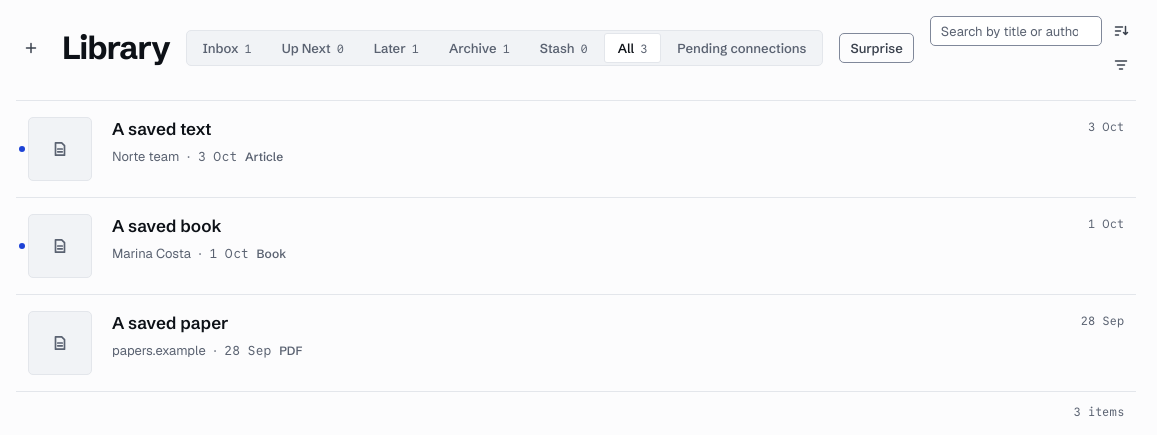
Test case: LibraryView over the API › asks the server for unread only, and says so on the page
Step 1. Click the button named "Filter" → (1121, 65), box [1106,50,1136,80]
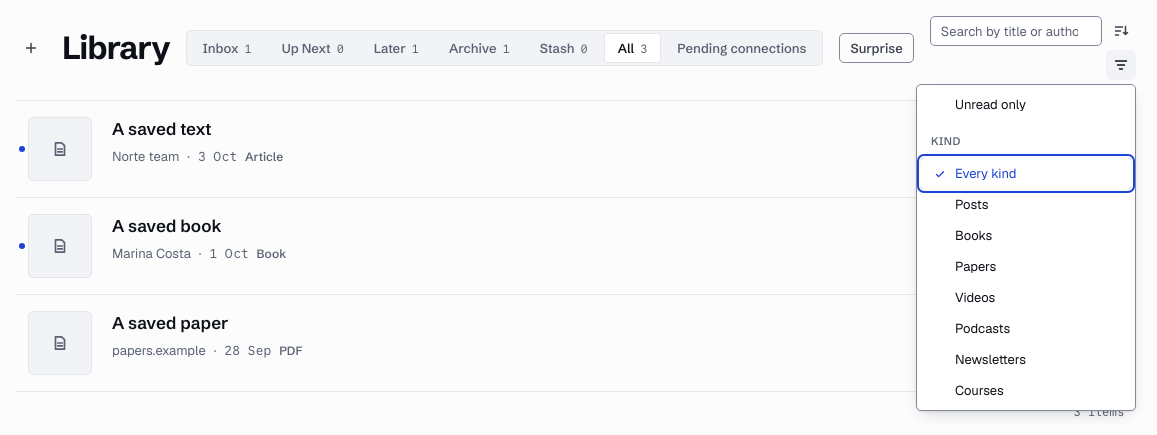
Step 2. Click the menu item "Unread only" → (1026, 104), box [921,89,1131,120]
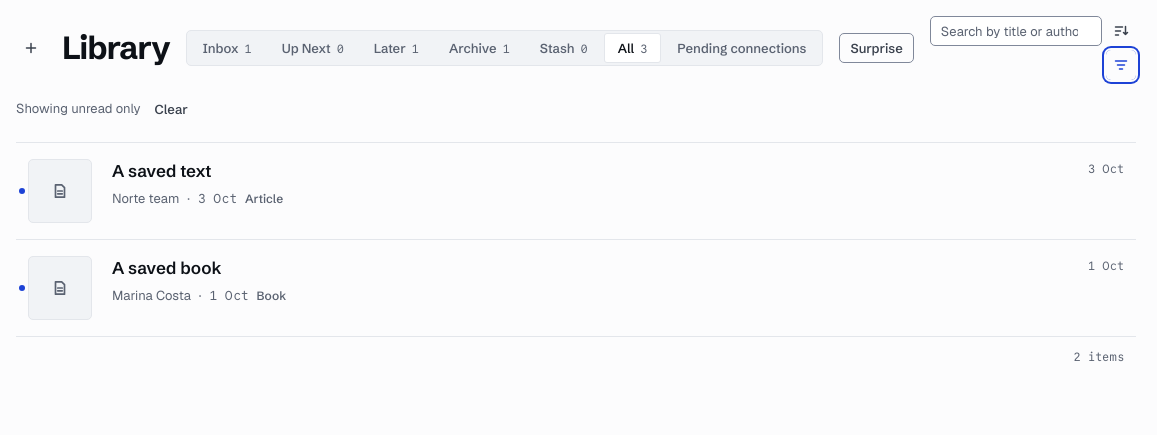
Expected: the element with class "library-unread" shows "Showing unread only", [16,100,140,117]
